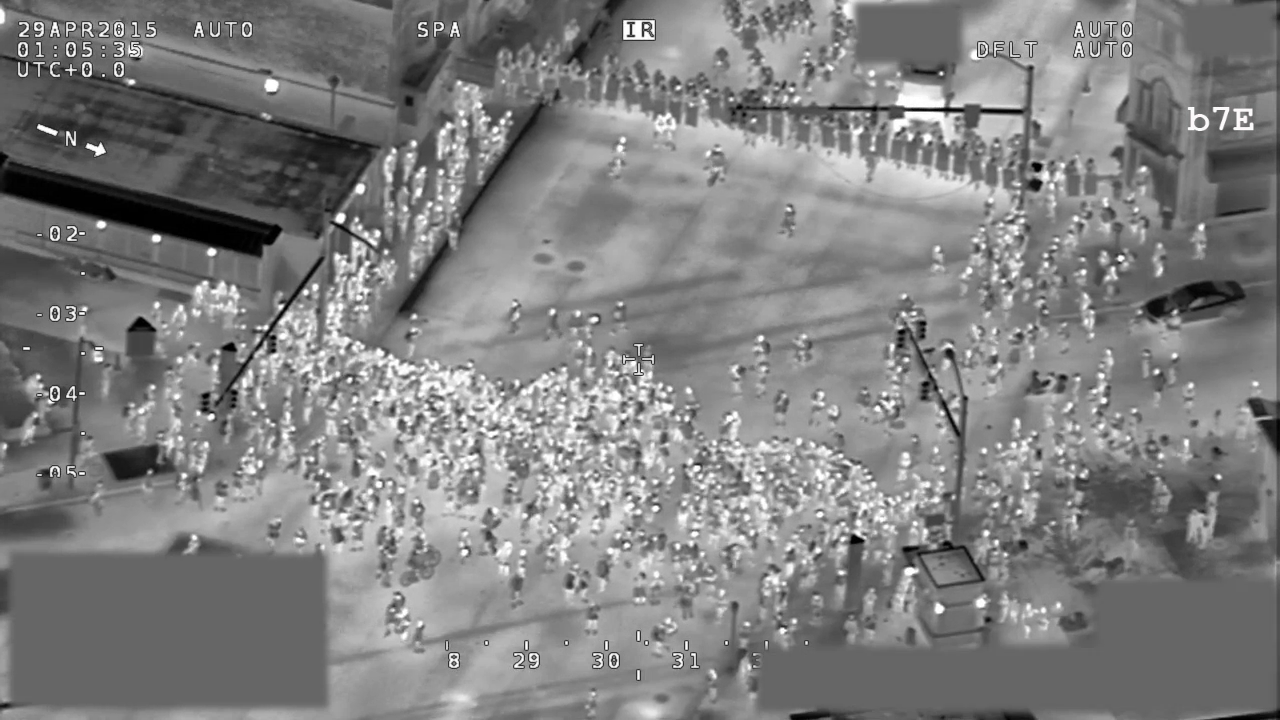vehicle: (1139, 276, 1250, 330)
